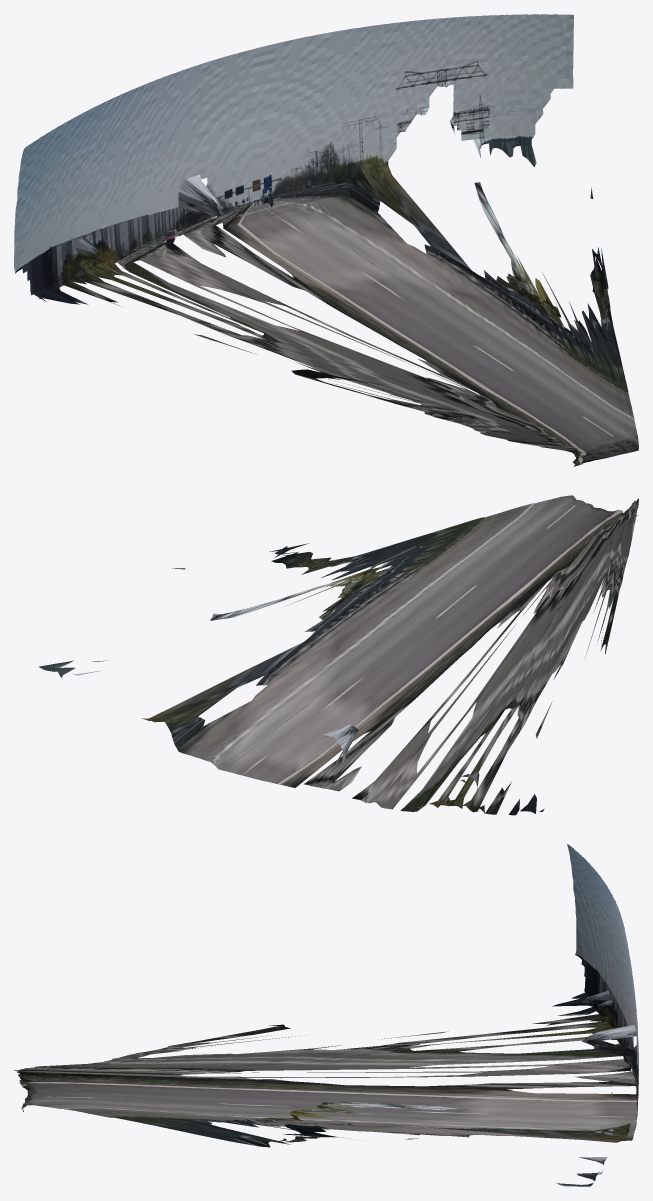
3 renders of one model, top to bottom at view 1: azimuth 30°, elevation 25°; view 2: azimuth 150°, elevation 25°; view 3: azimuth 270°, elevation 25°, orthographic. The views are drawn at different scales.
Visible parts, largest first — view 1: defaultobject; view 2: defaultobject; view 3: defaultobject.
Part boxes in pixels (bbox=[...]): defaultobject: bbox=[14, 14, 638, 466]; defaultobject: bbox=[39, 495, 638, 815]; defaultobject: bbox=[14, 844, 638, 1186].
Bounding box in the file's own units: 41.11 × 12.86 × 44.94.
1 material, 1 textured.
